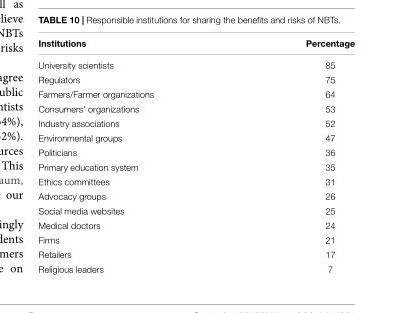table: (37, 37, 354, 273)
table column: (37, 37, 229, 273), (229, 37, 354, 273)
table column header: (37, 37, 354, 53)
table row: (37, 53, 354, 71), (37, 37, 354, 53), (37, 71, 354, 86), (37, 100, 354, 115), (37, 129, 354, 144), (37, 144, 354, 159), (37, 173, 354, 188), (37, 202, 354, 217), (37, 231, 354, 246), (37, 86, 354, 100), (37, 115, 354, 129), (37, 159, 354, 173), (37, 188, 354, 202), (37, 217, 354, 231), (37, 246, 354, 260), (37, 260, 354, 273)
